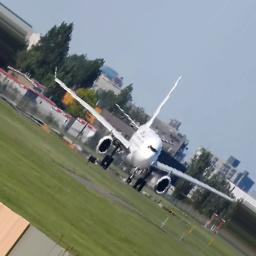Airplane: (55, 66, 240, 205)
